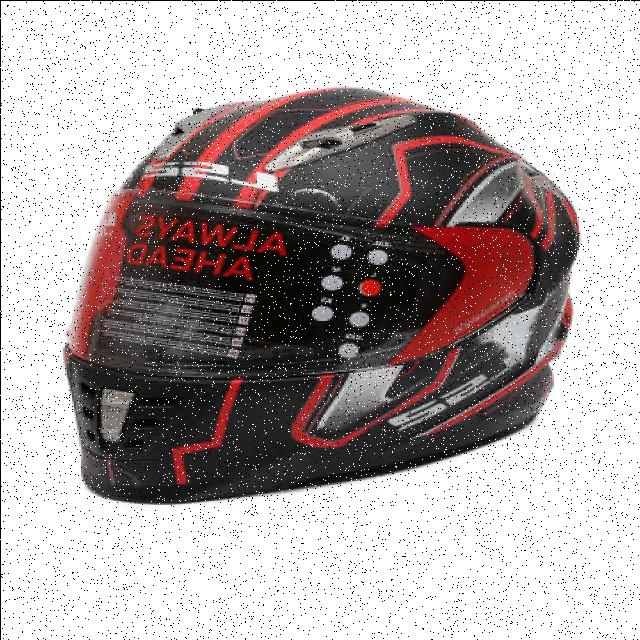Helmet: (65, 86, 578, 501)
